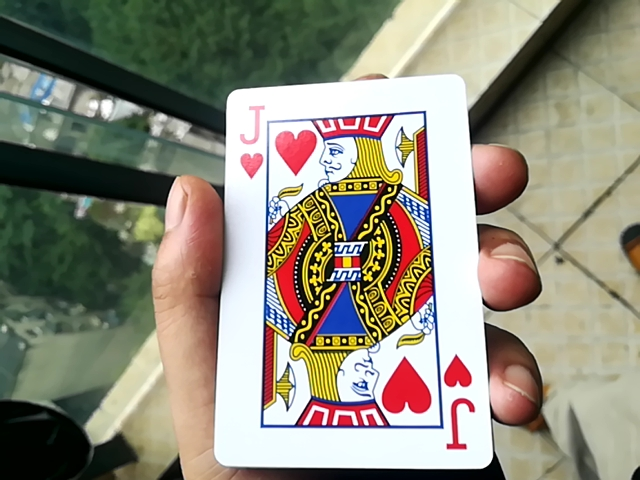hx j: (208, 68, 497, 469)
